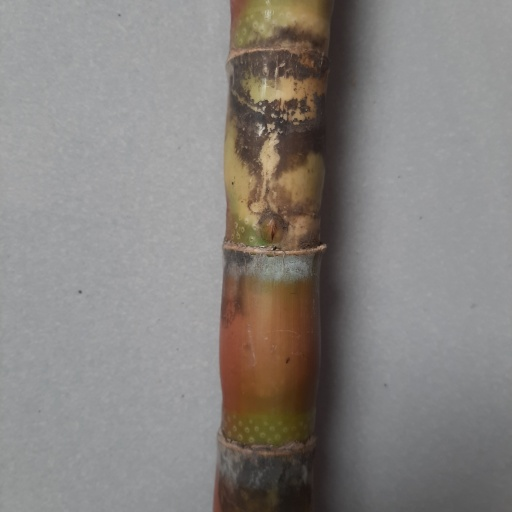Bud: (258, 212, 287, 248)
